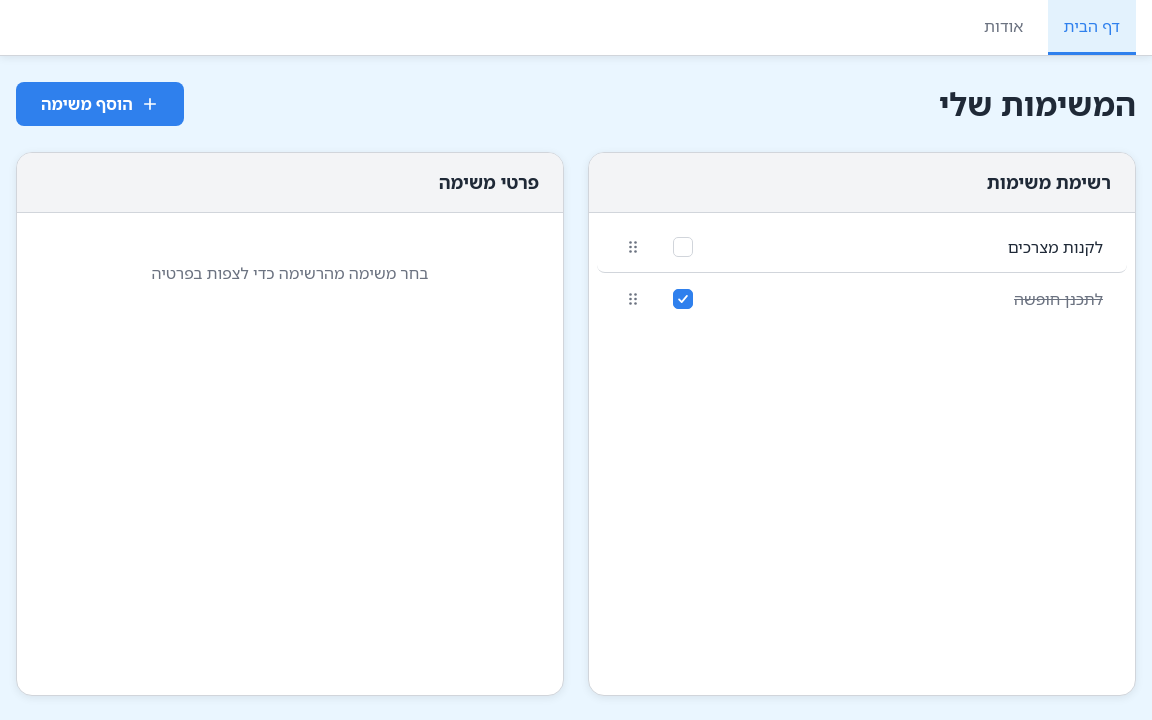
Test: Add task modal › creates a task with a title only, appends it, closes and selects it
Click the button "הוסף משימה".
click(100, 104)  # box x1=16 y1=82 x2=184 y2=126
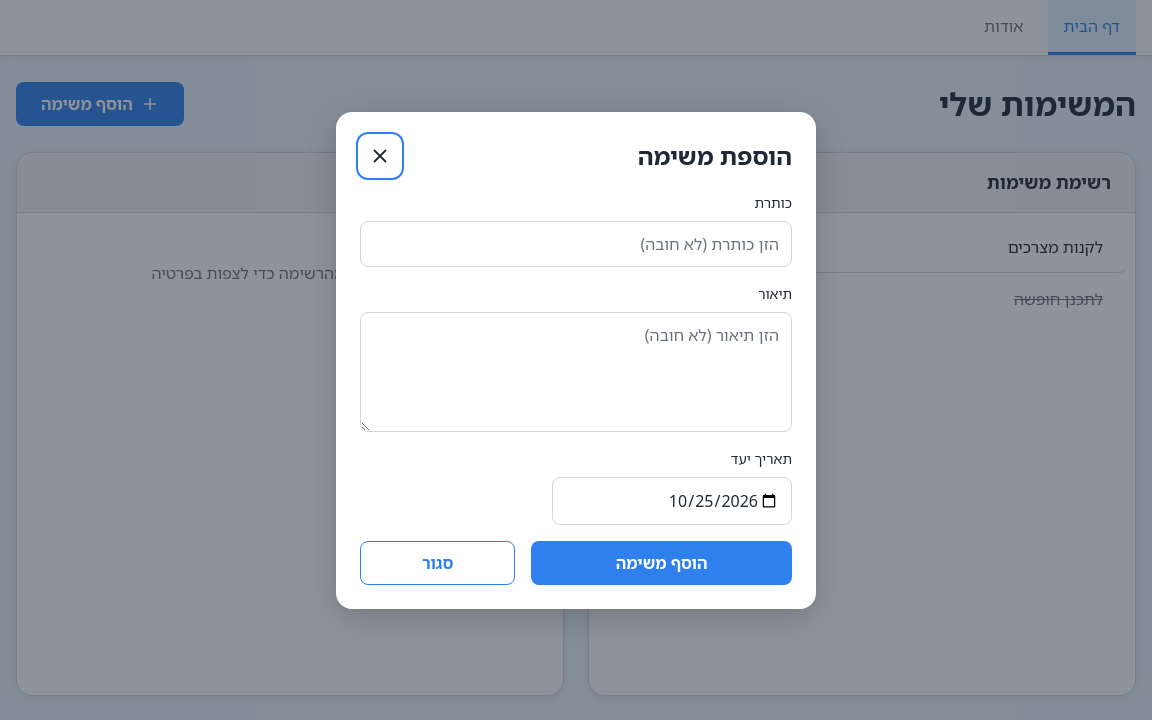
Type "משימה חדשה" into the field labelled "כותרת".
click(576, 244); type("משימה חדשה")  # box x1=360 y1=220 x2=792 y2=266
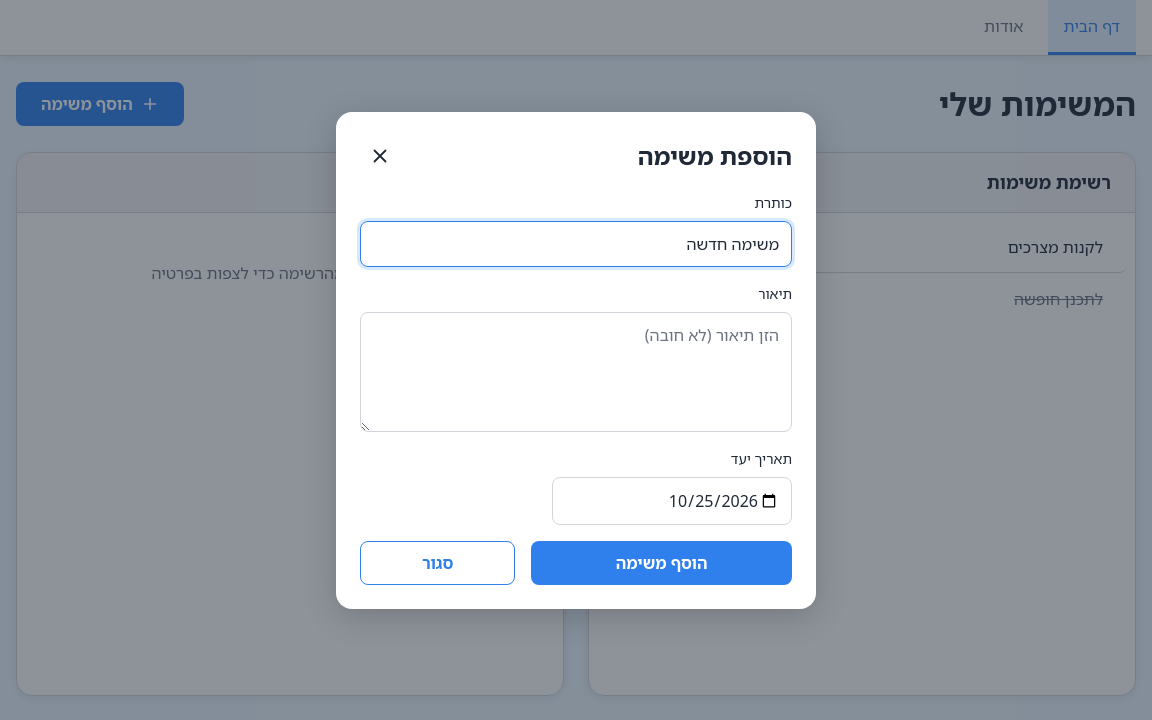
Click the button "הוסף משימה".
click(662, 562)  # box x1=531 y1=540 x2=792 y2=584
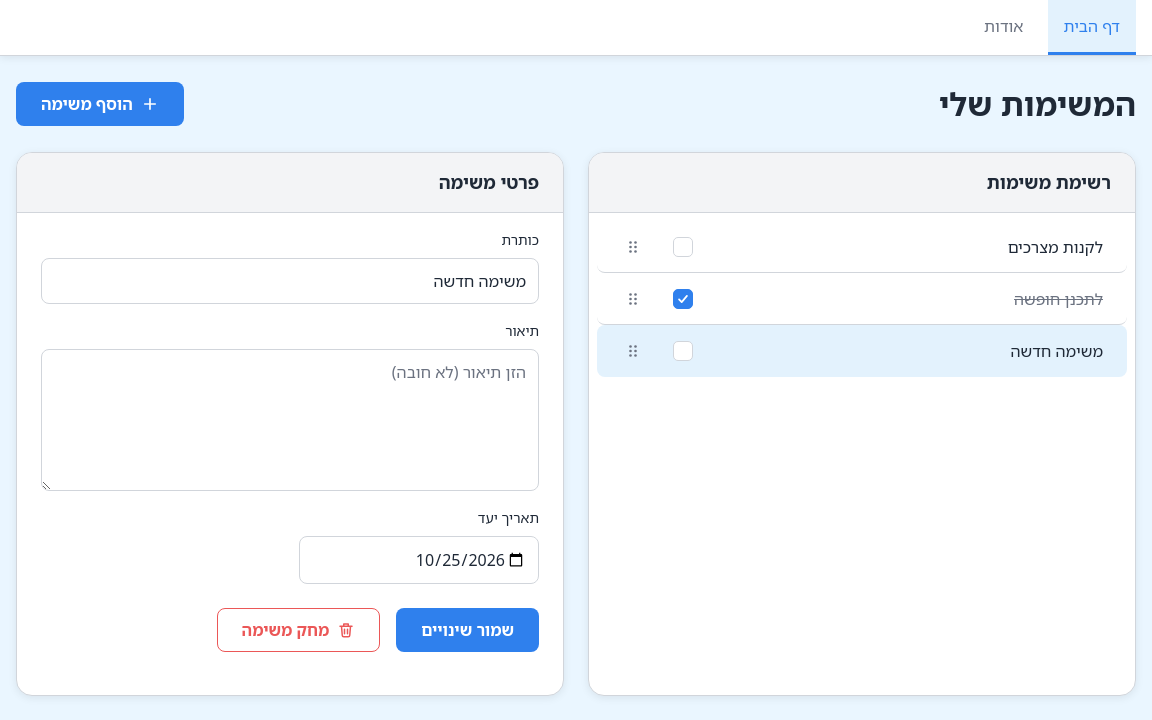
Expected: the dialog is gone
Expected: the elements with test id "task-row" read "לקנות מצרכים", "לתכנן חופשה", "משימה חדשה", in this order, x1=597 y1=221 x2=1127 y2=273; x1=597 y1=273 x2=1127 y2=325; x1=597 y1=325 x2=1127 y2=377
Expected: the checkbox named "משימה חדשה" is not checked, x1=673 y1=341 x2=693 y2=361
